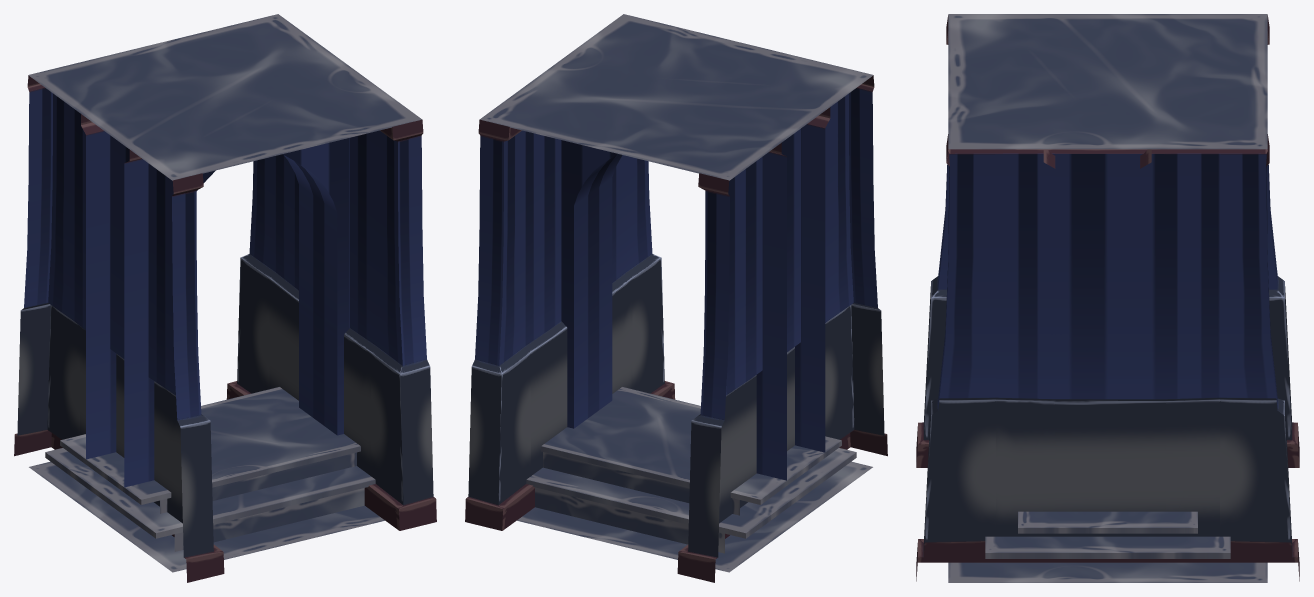
Rendered from RoomConnector_1.fbx.
3 views of the same model, side by side, from view 1: azimuth 30°, elevation 25°; view 2: azimuth 150°, elevation 25°; view 3: azimuth 270°, elevation 25° (orthographic). The views are drawn at different scales.
Parts seen in each view (by area): view 1: RoomConnector_1; view 2: RoomConnector_1; view 3: RoomConnector_1.
Boxes of the visible parts, bbox=[...] form: RoomConnector_1: bbox=[14, 14, 436, 582]; RoomConnector_1: bbox=[465, 14, 887, 582]; RoomConnector_1: bbox=[916, 14, 1299, 582].
Bounding box in the file's own units: 200 × 300 × 240.
